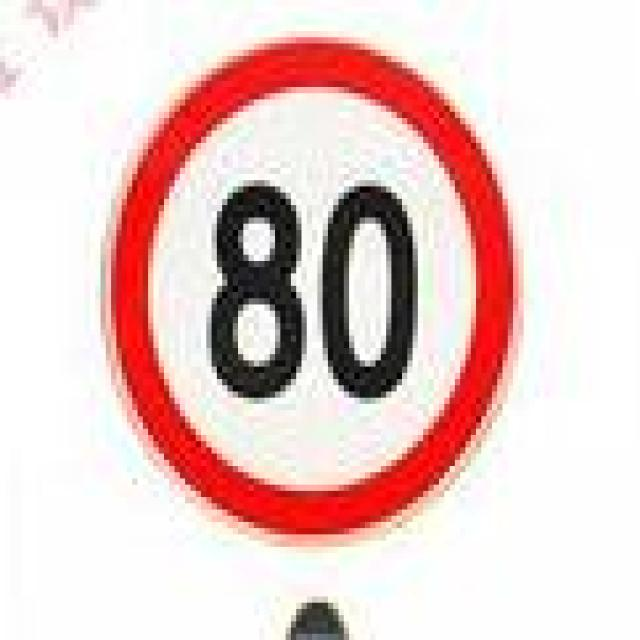speed limit 80: (100, 36, 523, 543)
